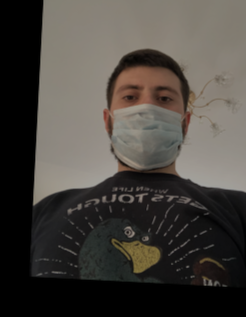with_mask: (109, 78, 184, 170)
